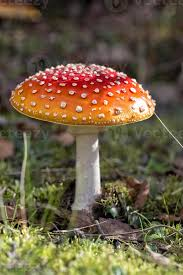Amanita muscaria: (4, 53, 159, 197)
